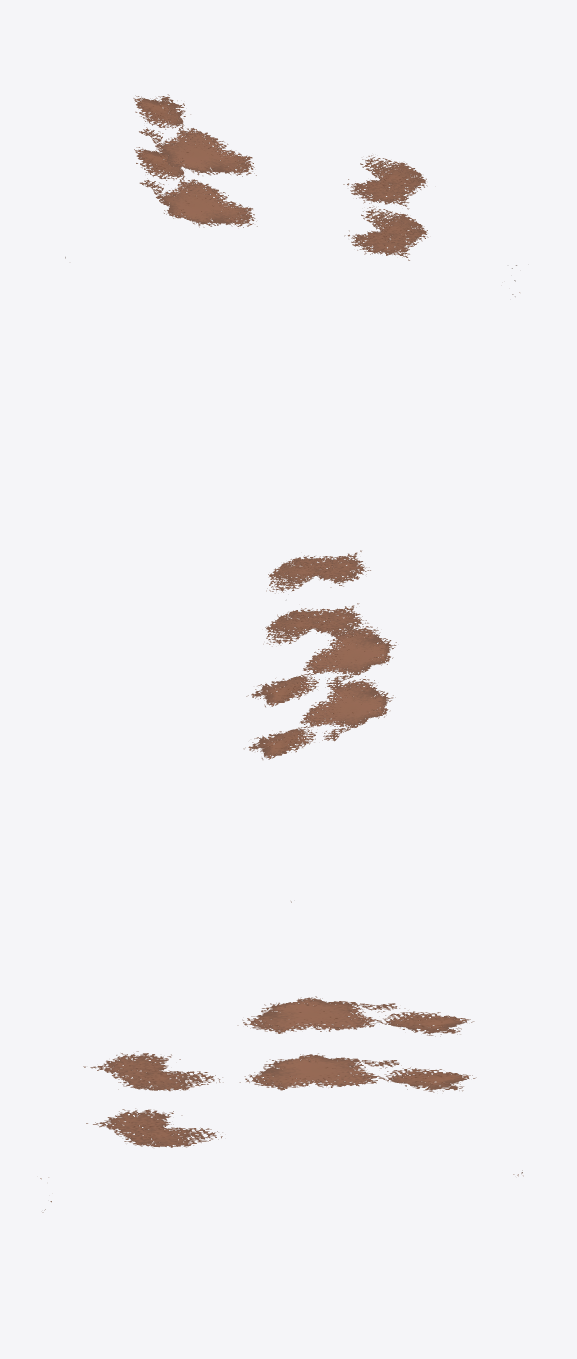
The model's file is Table03.fbx.
3 views of the same model, one above another, from view 1: azimuth 30°, elevation 25°; view 2: azimuth 150°, elevation 25°; view 3: azimuth 270°, elevation 25° (orthographic). The views are drawn at different scales.
Visible parts, largest first — view 1: Table03; view 2: Table03; view 3: Table03.
Part boxes in pixels (x1=…): Table03: x1=65, y1=94, x2=519, y2=296; Table03: x1=243, y1=550, x2=396, y2=902; Table03: x1=40, y1=996, x2=523, y2=1212.
Bounding box in the file's own units: 1.03 × 0.7222 × 1.59.
1 material, 1 textured.
